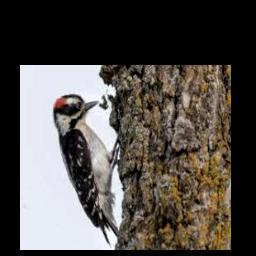Woodpecker: (52, 94, 120, 248)
